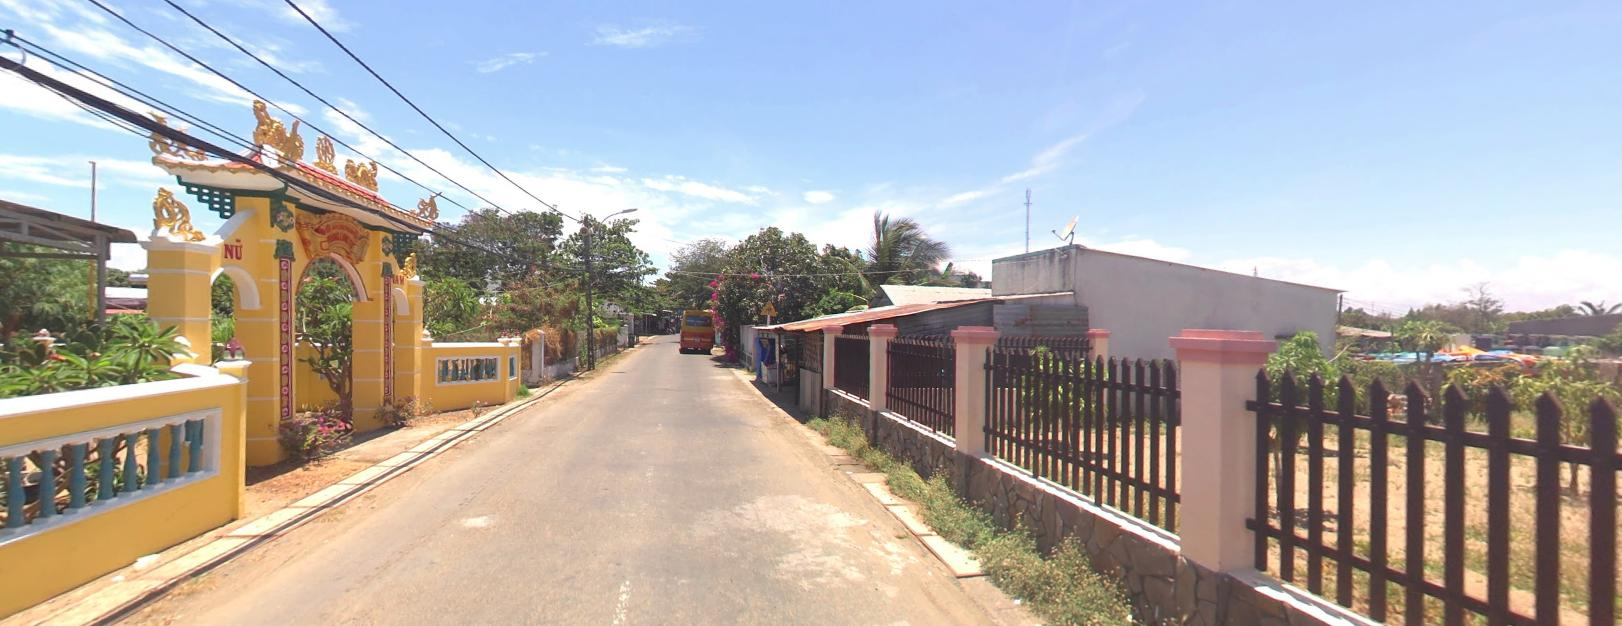Nguy hiem: (759, 299, 775, 313)
